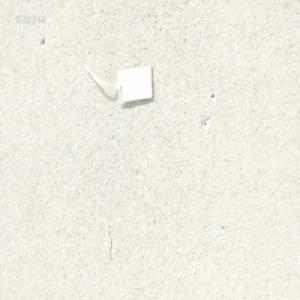LuggageTag: (82, 60, 154, 106)
